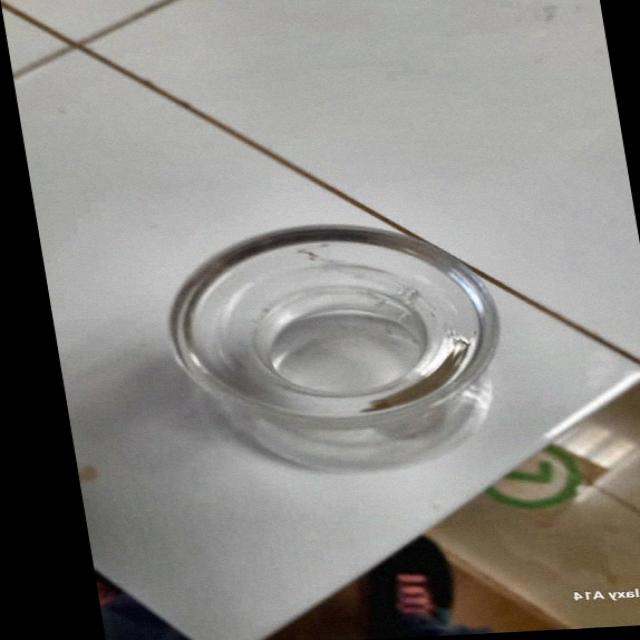Filtration Flask: (106, 200, 513, 458)
